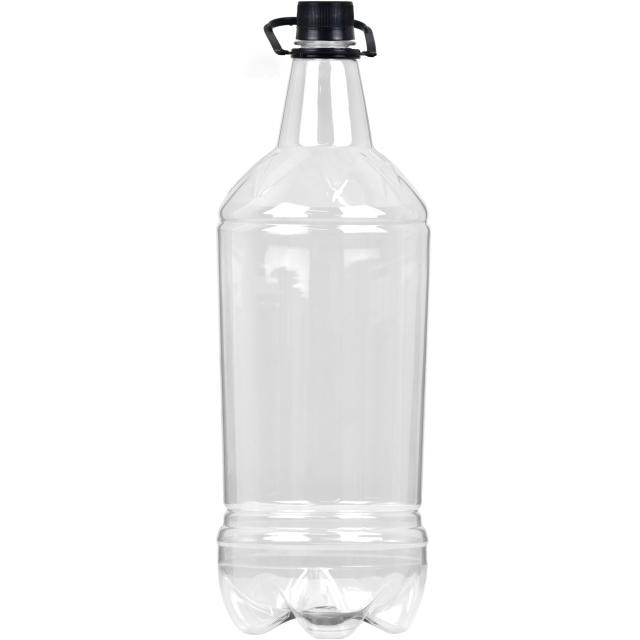bottom: (196, 517, 440, 640)
cap: (282, 0, 359, 69)
